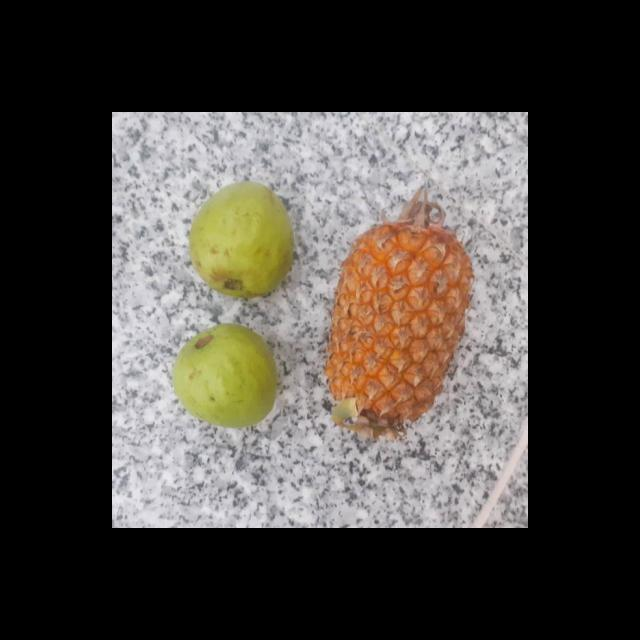guava: (187, 182, 294, 294), (168, 326, 276, 428)
pineapple: (326, 220, 469, 430)
